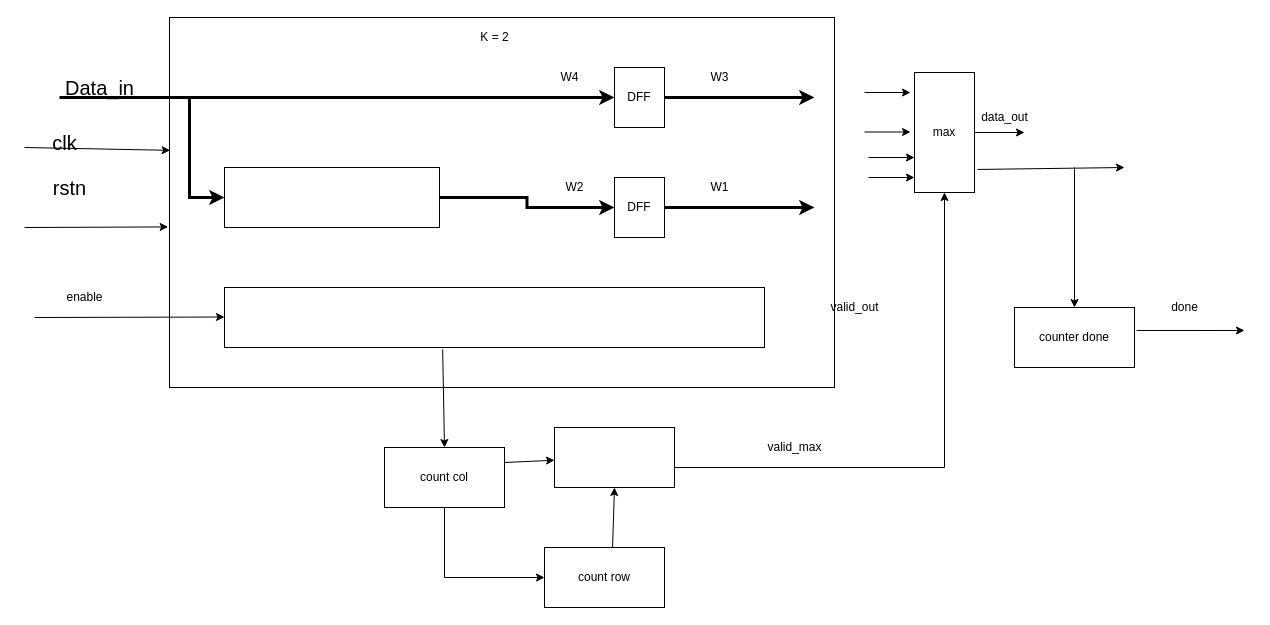
Image size: 1270x625. Some labels were removed from this diagram. Each missing label, with the box of its shape:
(K>>1)*(WIDTH + 1): (224, 286, 764, 348)
check count: (554, 426, 674, 488)
LINE BUFFER: (224, 166, 440, 228)
